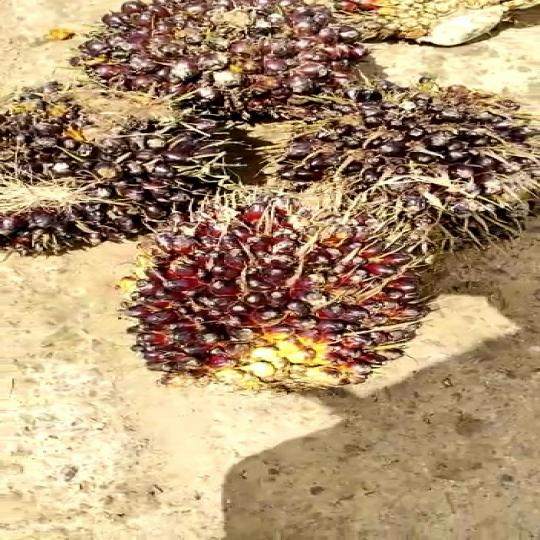kurang masak: (154, 207, 406, 384), (262, 84, 540, 236), (74, 0, 376, 108), (0, 95, 201, 233)
